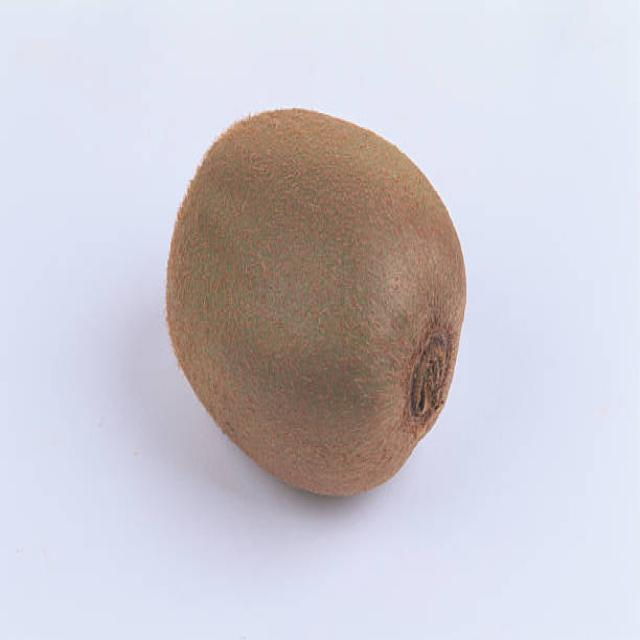kiwi: (166, 108, 467, 496)
